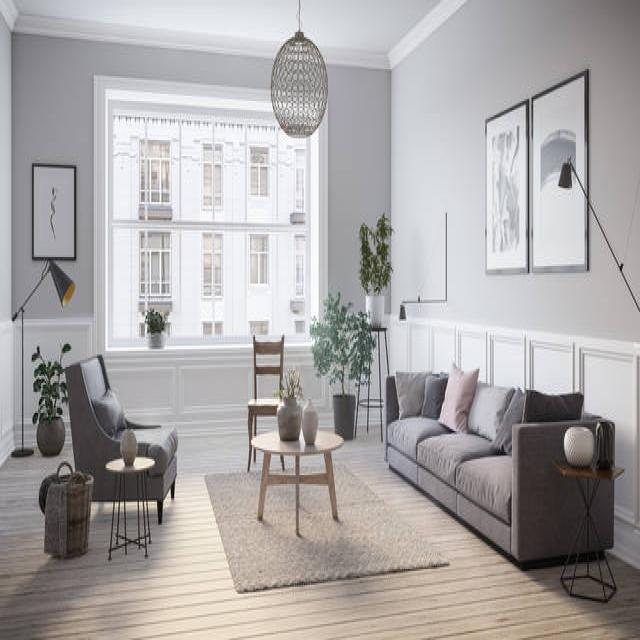modern chair: (59, 348, 179, 516), (242, 332, 286, 464)
modern desk: (250, 422, 342, 539)
modern sofa: (382, 364, 619, 558)
